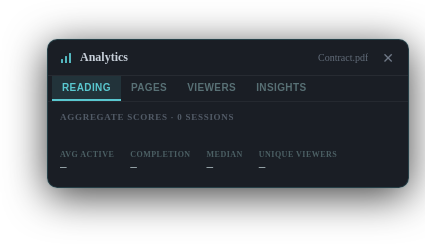
Test case: InsightsModal — Insights tab › shows empty state instead of crashing when insights is null
Step 1. Click the button "Insights" → (281, 88), box [246,76,316,101]
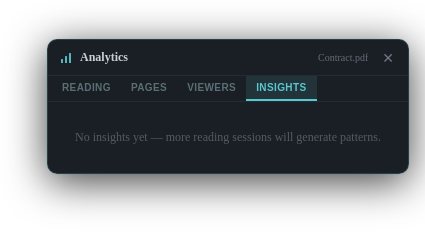
Check: the text "No insights yet — more reading sessions will generate patterns." is shown, box [75,130,381,144]
